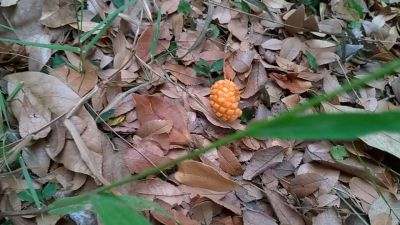eggs: (207, 76, 245, 124)
